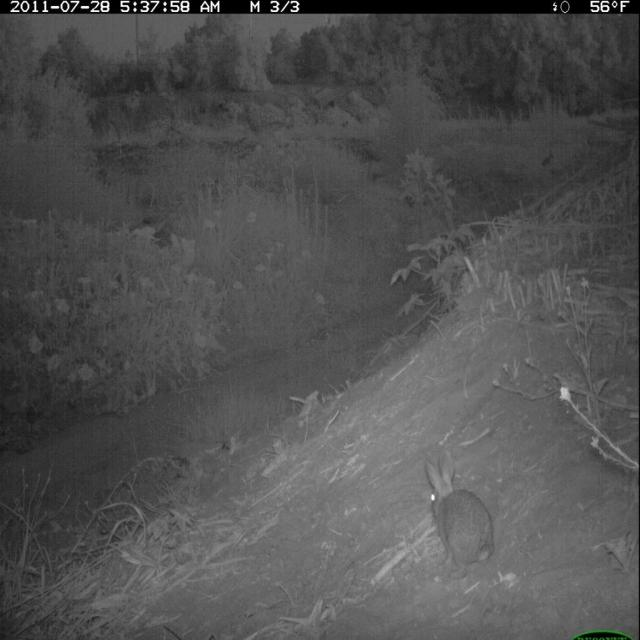rabbit: (417, 446, 501, 586)
